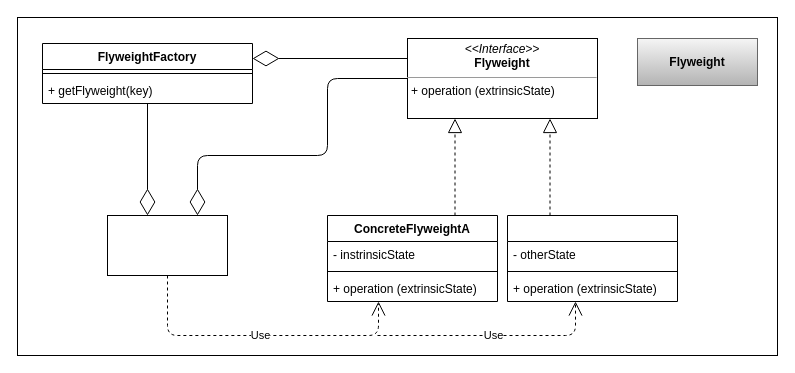
Image size: 795x373. Some labels were removed from this diagram. The box of each missing label's shape, as (x1, y1, x2, y2) in pixels:
Client: (106, 214, 228, 276)
ConcreteFlyweightB: (506, 214, 678, 302)
